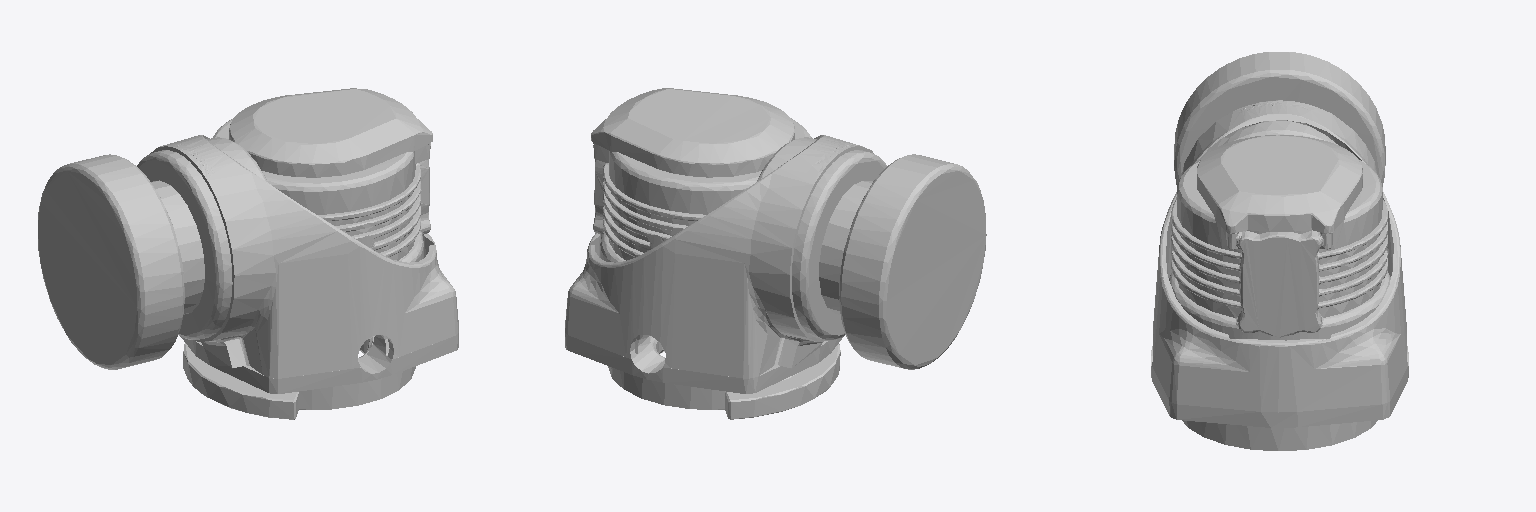
File: front_right_hip.obj
The picture shows the model from 3 angles: view 1: azimuth 30°, elevation 25°; view 2: azimuth 150°, elevation 25°; view 3: azimuth 270°, elevation 25°; orthographic projection.
Visible parts, largest first — view 1: front_right_hip_02-042137-001-A00_TOP_LEVEL_DEFEATURED_-_NOT_FOR; view 2: front_right_hip_02-042137-001-A00_TOP_LEVEL_DEFEATURED_-_NOT_FOR; view 3: front_right_hip_02-042137-001-A00_TOP_LEVEL_DEFEATURED_-_NOT_FOR.
Part boxes in pixels (x1,y1,x2,y2): front_right_hip_02-042137-001-A00_TOP_LEVEL_DEFEATURED_-_NOT_FOR: (38,88,458,419); front_right_hip_02-042137-001-A00_TOP_LEVEL_DEFEATURED_-_NOT_FOR: (565,88,986,419); front_right_hip_02-042137-001-A00_TOP_LEVEL_DEFEATURED_-_NOT_FOR: (1151,52,1408,450).
Size of the model in its own units: 0.1417 by 0.1 by 0.0941.